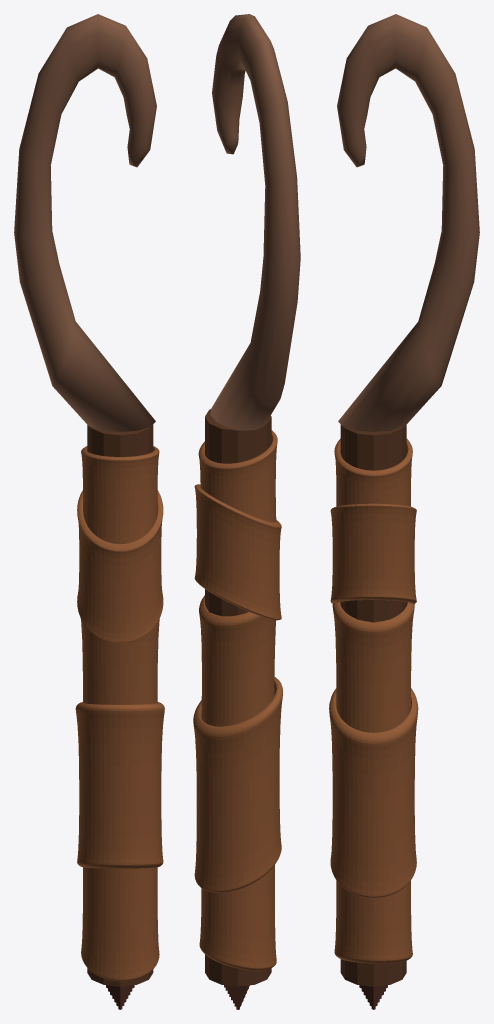
The model's file is Wand 384.glb.
3 renders of one model, left to right at view 1: azimuth 90°, elevation 25°; view 2: azimuth 210°, elevation 25°; view 3: azimuth 270°, elevation 25°, orthographic.
Visible parts, largest first — view 1: GeneratedWand; view 2: GeneratedWand; view 3: GeneratedWand.
Boxes of the visible parts, left/top/right/bottom form: GeneratedWand: left=14, top=14, right=164, bottom=1009; GeneratedWand: left=193, top=14, right=300, bottom=1009; GeneratedWand: left=329, top=14, right=479, bottom=1009.
Size of the model in its own units: 0.0408 by 0.5025 by 0.069.
